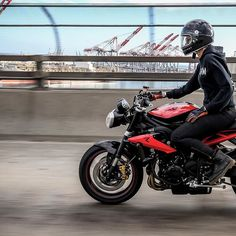helmet: (180, 17, 216, 51)
